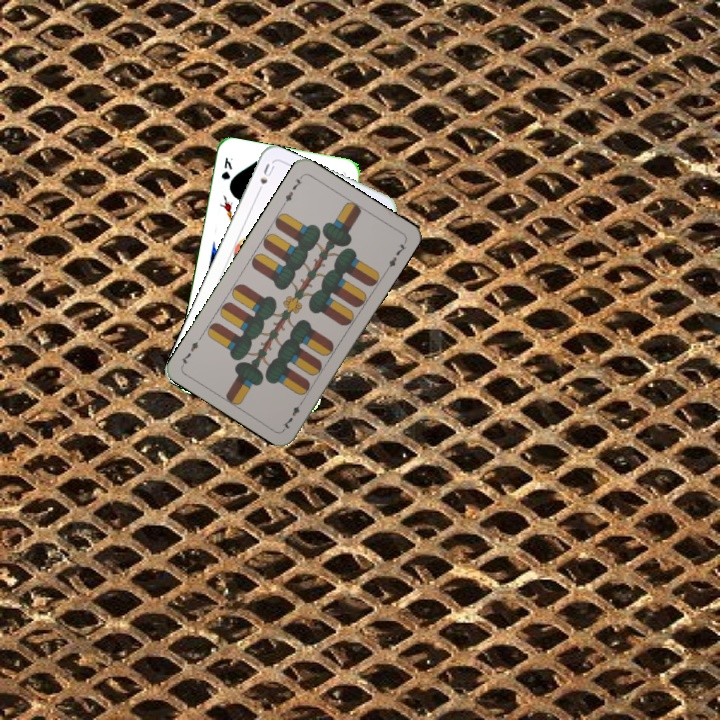E7: (278, 396, 307, 432), (279, 172, 305, 208)
GK: (217, 153, 235, 184)
SU: (252, 159, 277, 197)
